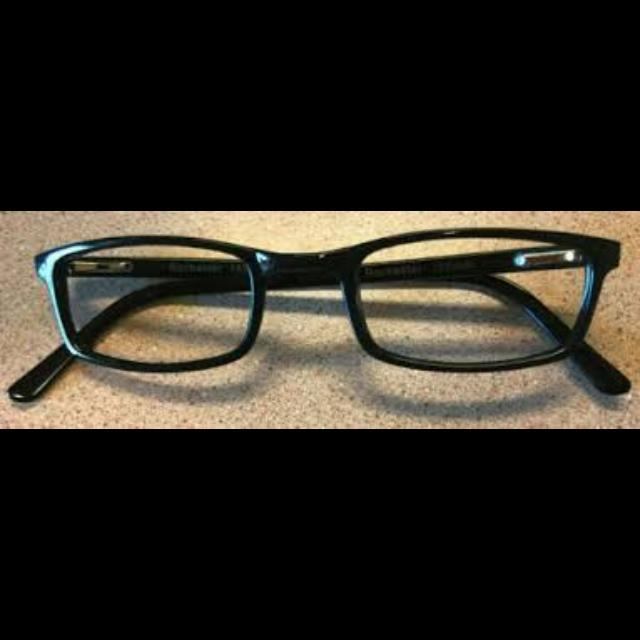glasses: (2, 227, 636, 405)
